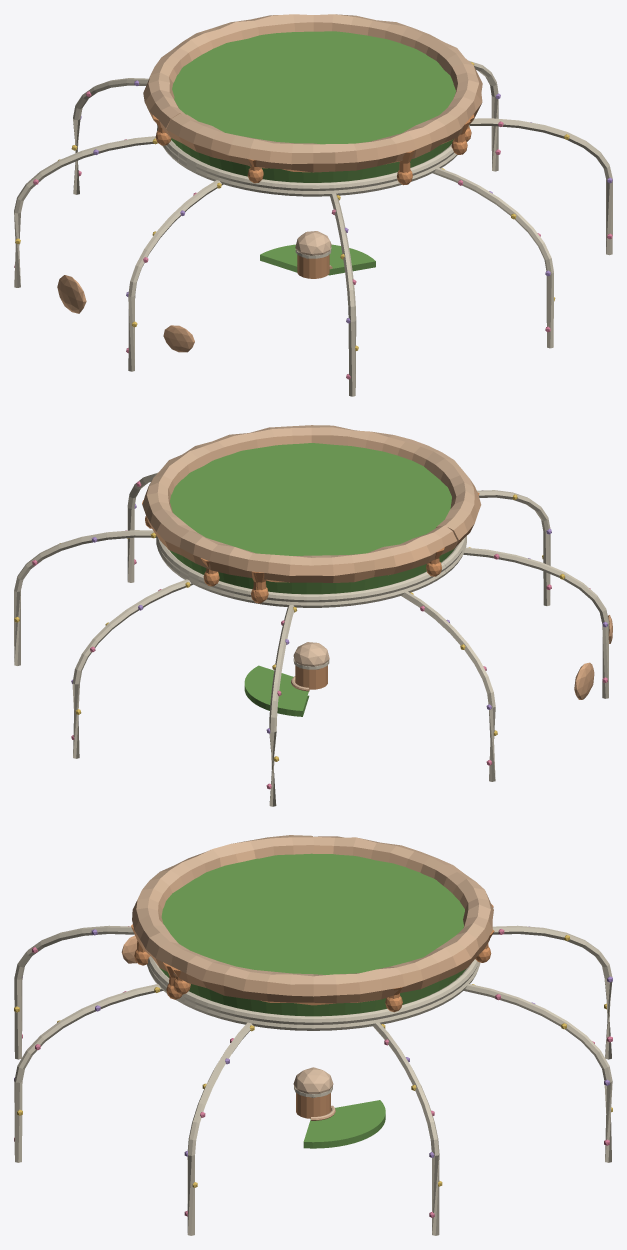
Rendered from goo_jar_trim_2_top@garden.fbx.
The picture shows the model from 3 angles, top to bottom: view 1: azimuth 30°, elevation 25°; view 2: azimuth 150°, elevation 25°; view 3: azimuth 270°, elevation 25°; orthographic projection. The views are drawn at different scales.
Visible parts, largest first — view 1: goo_jar_trim_2_top; view 2: goo_jar_trim_2_top; view 3: goo_jar_trim_2_top.
Part boxes in pixels (left/top/right/bottom): goo_jar_trim_2_top: left=14, top=14, right=612, bottom=396; goo_jar_trim_2_top: left=14, top=425, right=612, bottom=806; goo_jar_trim_2_top: left=14, top=835, right=612, bottom=1235.
Size of the model in its own units: 53.13 by 20.05 by 50.98.
